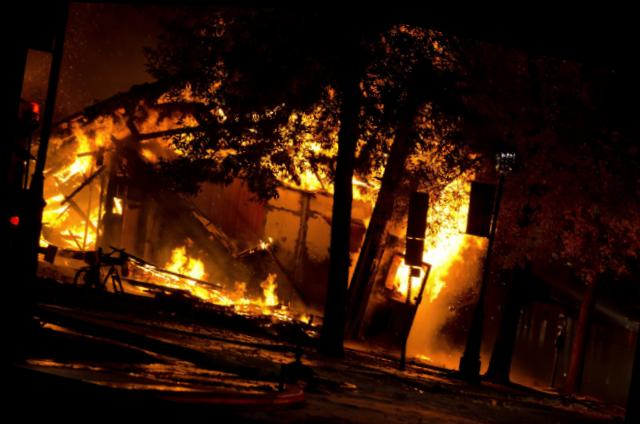fire: (3, 0, 570, 395)
